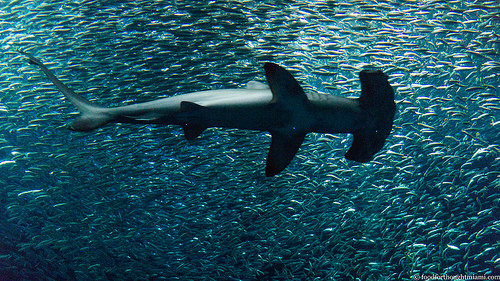shark: (13, 39, 409, 180)
